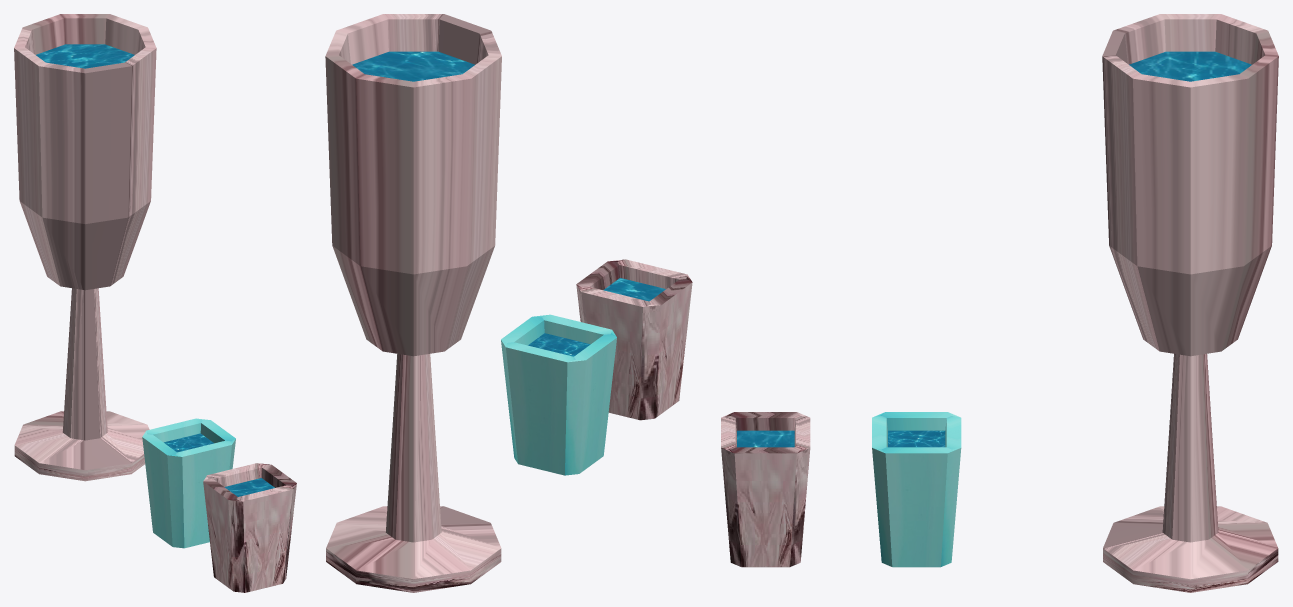
The model's file is glass.FBX.
3 views of the same model, side by side, from view 1: azimuth 30°, elevation 25°; view 2: azimuth 150°, elevation 25°; view 3: azimuth 270°, elevation 25° (orthographic). The views are drawn at different scales.
Parts seen in each view (by area): view 1: Cylinder001, Box002, Box001, Object002, Object003, Object001; view 2: Cylinder001, Box001, Box002, Object002, Object001, Object003; view 3: Cylinder001, Box002, Box001, Object002, Object003, Object001.
Part boxes in pixels (box(x1,y1,x2,y2)): Cylinder001: box(14, 14, 156, 481); Box002: box(203, 463, 296, 592); Box001: box(142, 418, 235, 548); Object002: box(36, 44, 134, 68); Object003: box(225, 478, 274, 496); Object001: box(164, 433, 213, 452); Cylinder001: box(325, 14, 501, 592); Box001: box(501, 314, 616, 475); Box002: box(576, 259, 692, 420); Object002: box(352, 51, 474, 81); Object001: box(528, 333, 590, 356); Object003: box(603, 278, 665, 301); Cylinder001: box(1102, 14, 1278, 592); Box002: box(721, 412, 810, 567); Box001: box(872, 412, 961, 567); Object002: box(1129, 51, 1251, 81); Object003: box(737, 430, 794, 447); Object001: box(888, 430, 945, 447).
Size of the model in its own units: 15.26 by 48.94 by 48.92.
Materials: 3 (3 with a texture image).
